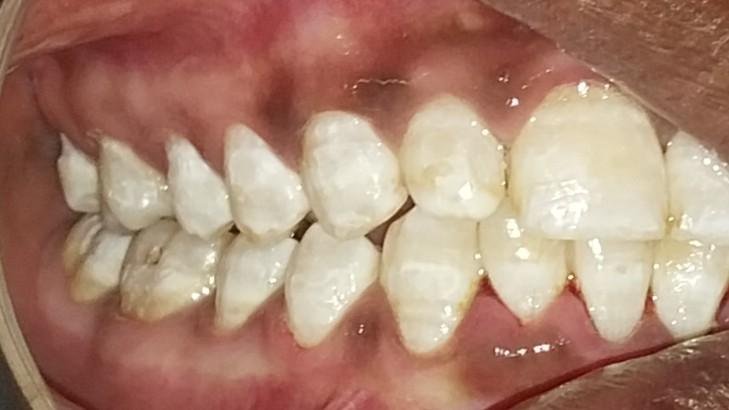D: (115, 220, 221, 315)
